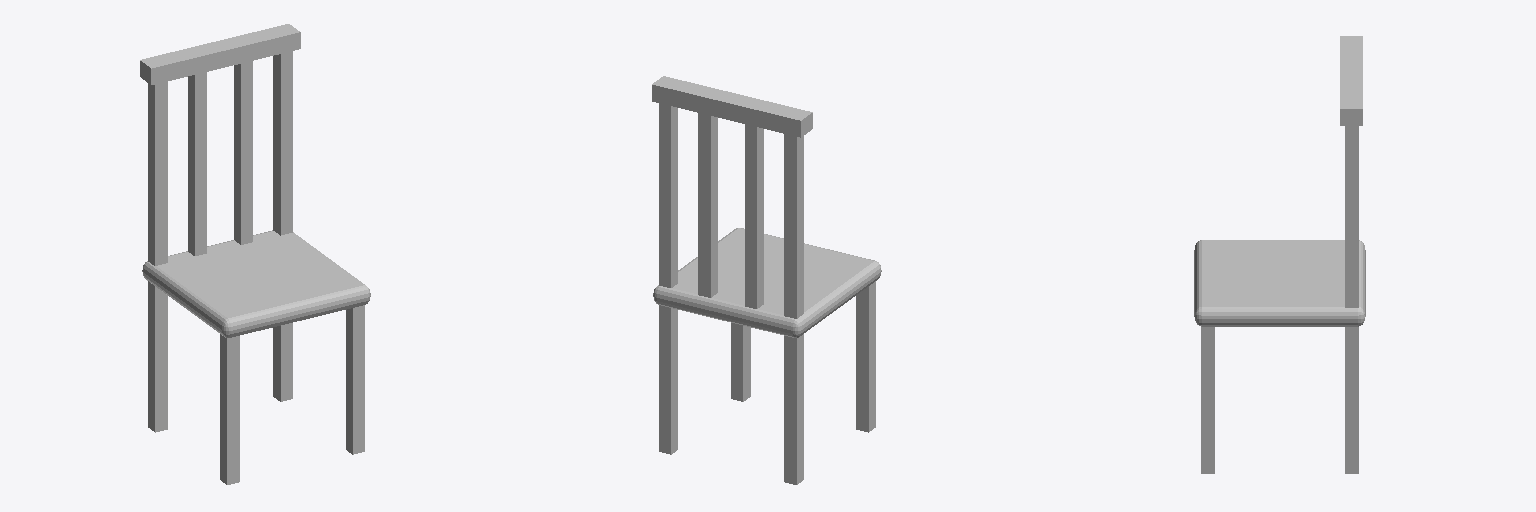
The model's file is chair.obj.
3 renders of one model, left to right at view 1: azimuth 30°, elevation 25°; view 2: azimuth 150°, elevation 25°; view 3: azimuth 270°, elevation 25°, orthographic.
Parts seen in each view (by area): view 1: Bottom_Cube.003, Back_Cube.005, ChairLegs_Cube.004, Toppart_Cube.007; view 2: Back_Cube.005, Bottom_Cube.003, ChairLegs_Cube.004, Toppart_Cube.007; view 3: Bottom_Cube.003, ChairLegs_Cube.004, Back_Cube.005, Toppart_Cube.007.
Part boxes in pixels (x1,y1,x2,y2): Bottom_Cube.003: (142,230,370,337); Back_Cube.005: (148,51,292,265); ChairLegs_Cube.004: (148,281,364,484); Toppart_Cube.007: (140,24,300,84); Back_Cube.005: (659,103,803,318); Bottom_Cube.003: (653,228,881,337); ChairLegs_Cube.004: (659,281,875,484); Toppart_Cube.007: (652,76,812,137); Bottom_Cube.003: (1194,240,1365,326); ChairLegs_Cube.004: (1201,327,1358,473); Back_Cube.005: (1345,126,1358,307); Toppart_Cube.007: (1340,36,1362,125).
Bounding box in the file's own units: 0.6046 × 1.42 × 0.6.